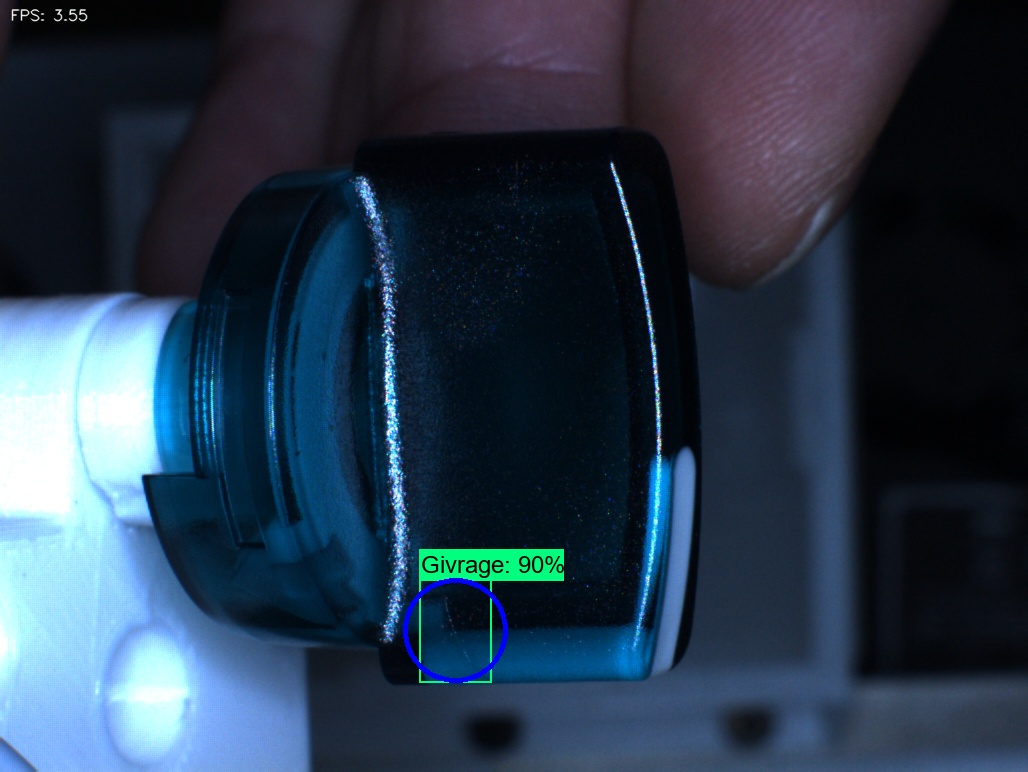PointNoir: (292, 308, 360, 391)
